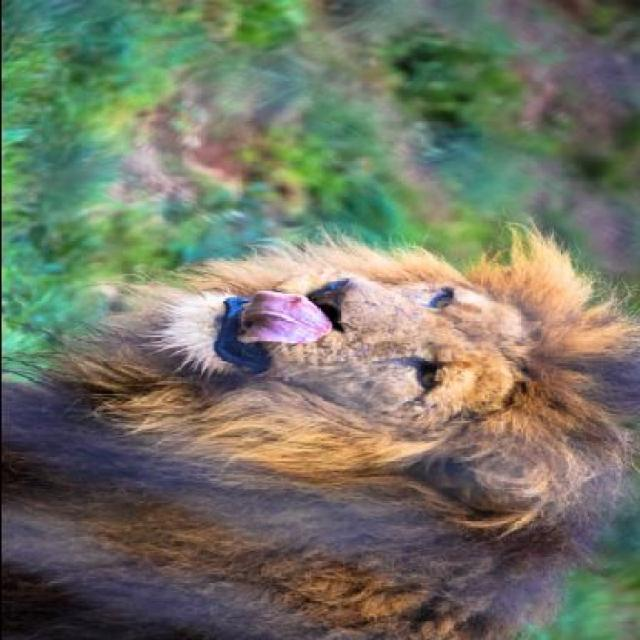Lion: (2, 209, 629, 637)
